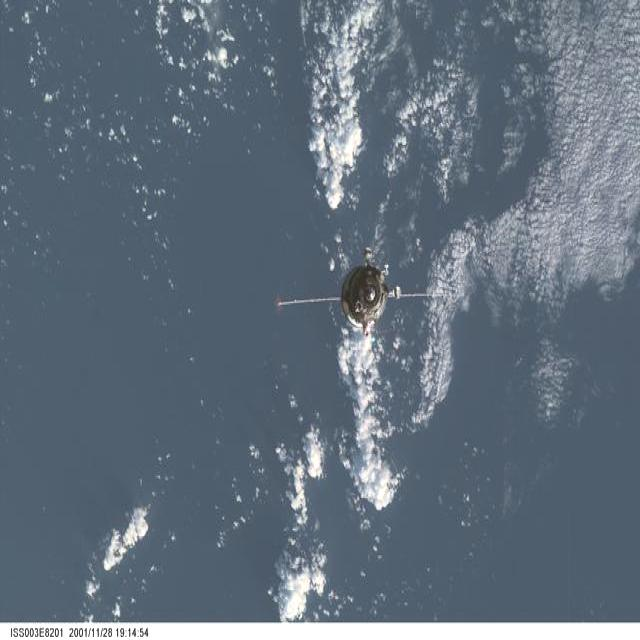medium_debris: (276, 247, 445, 334)
